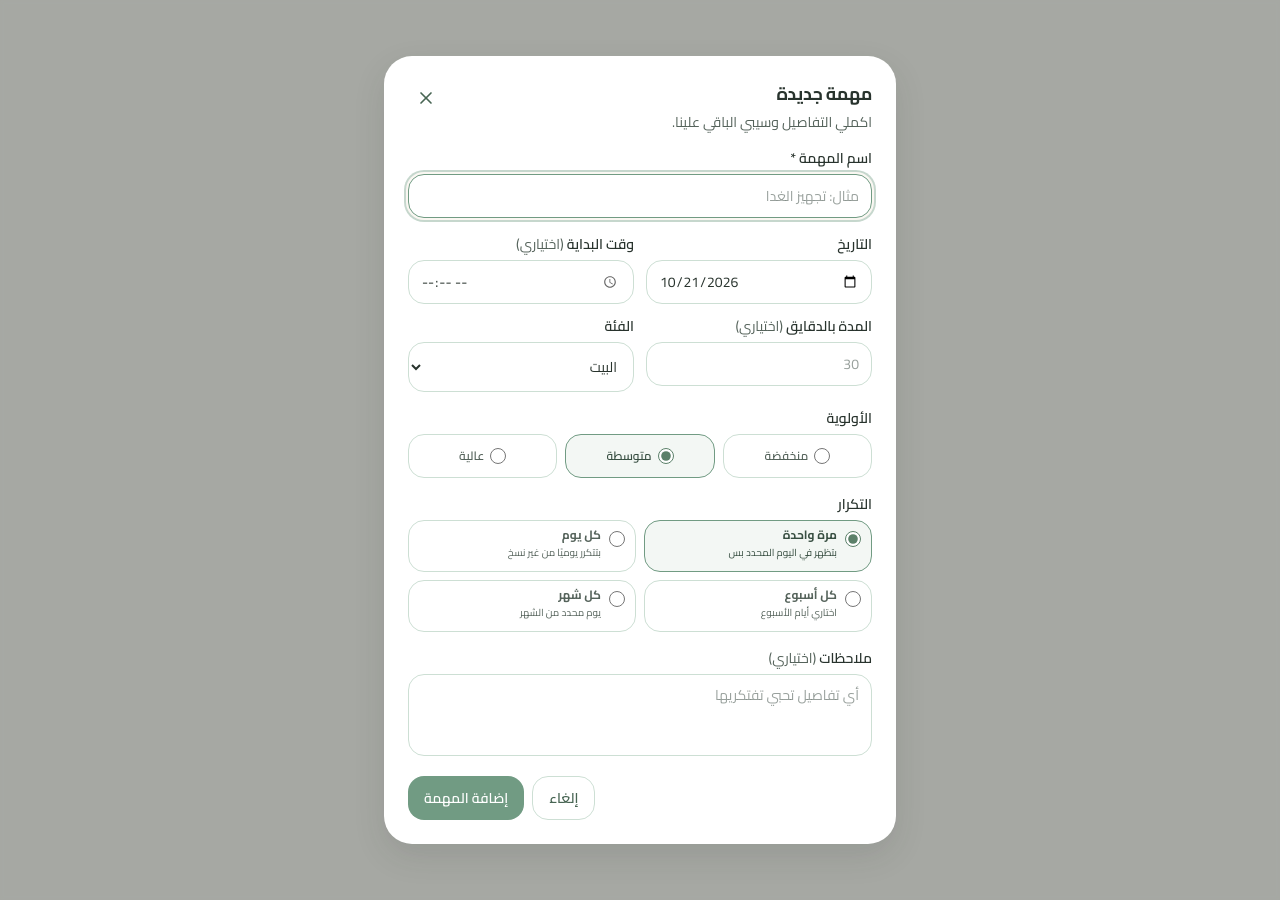
Test: نموذج المهمة › يعرض خطأ لما الاسم فاضي ومش بيبعت
Step 1. Click the button "إضافة المهمة" → (466, 798), box top-left (408, 776), bottom-right (524, 820)
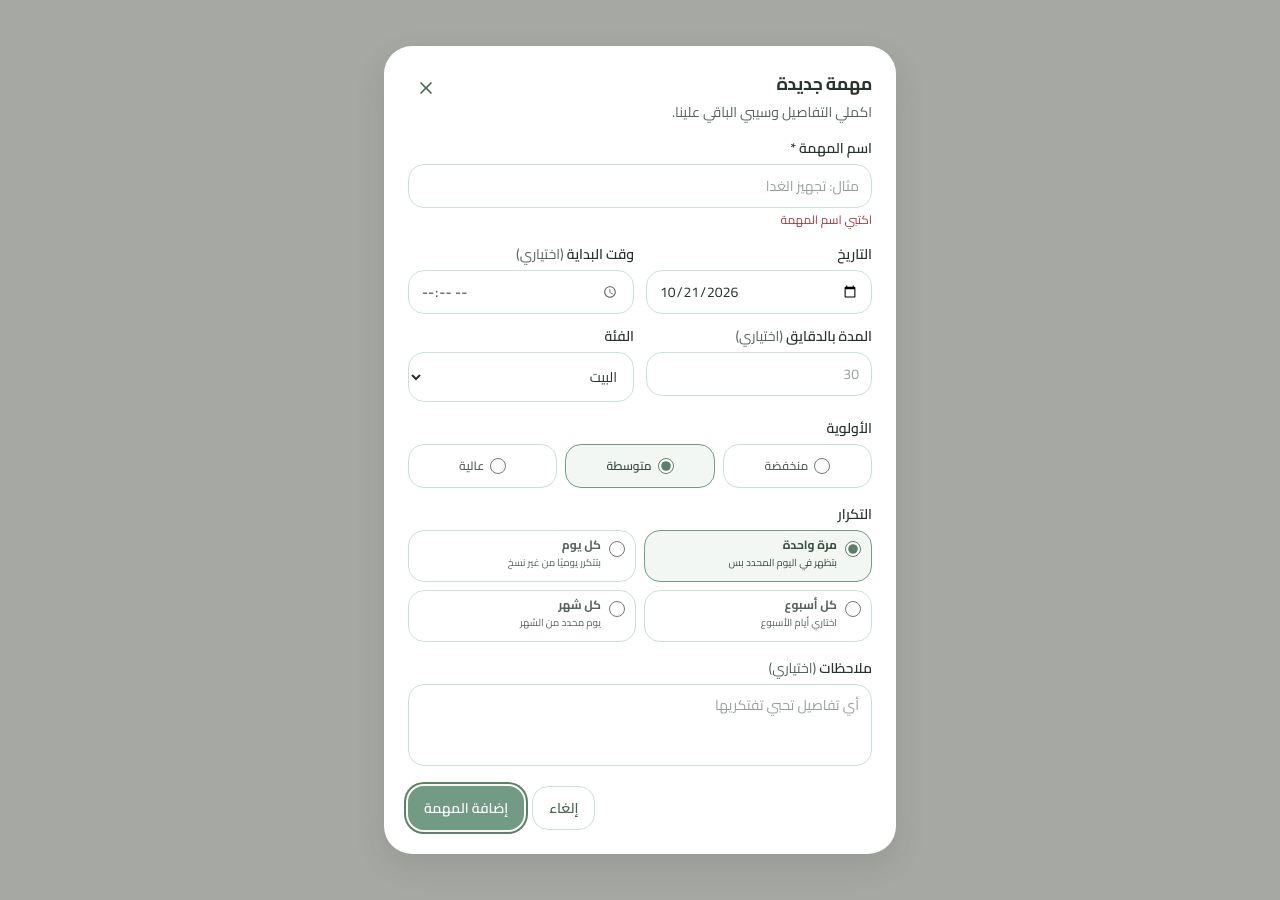
expect the text "اكتبي اسم المهمة" is shown: met, box top-left (780, 208), bottom-right (872, 231)
